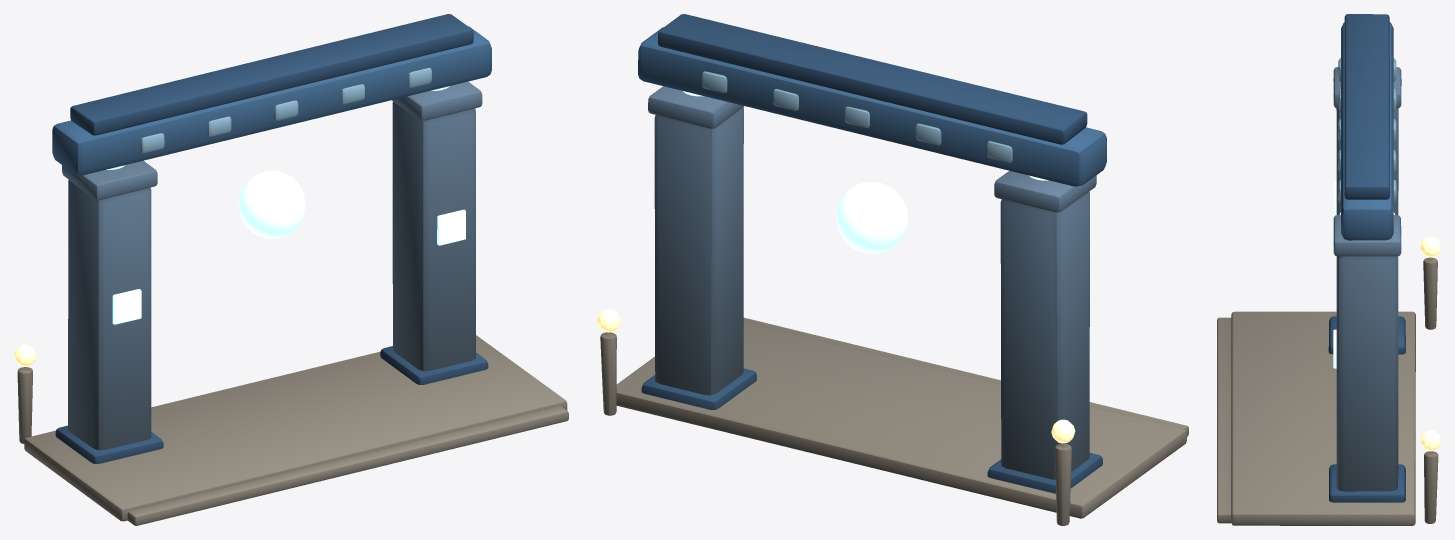
3 renders of one model, left to right at view 1: azimuth 30°, elevation 25°; view 2: azimuth 150°, elevation 25°; view 3: azimuth 270°, elevation 25°, orthographic. The views are drawn at different scales.
Parts seen in each view (by area): view 1: gate_f1d92517; view 2: gate_f1d92517; view 3: gate_f1d92517.
Boxes of the visible parts, x1,y1,x2,y2 form: gate_f1d92517: (14, 14, 568, 525); gate_f1d92517: (597, 14, 1188, 525); gate_f1d92517: (1217, 14, 1440, 525).
Bounding box in the file's own units: 5.49 × 4.1 × 2.55.
